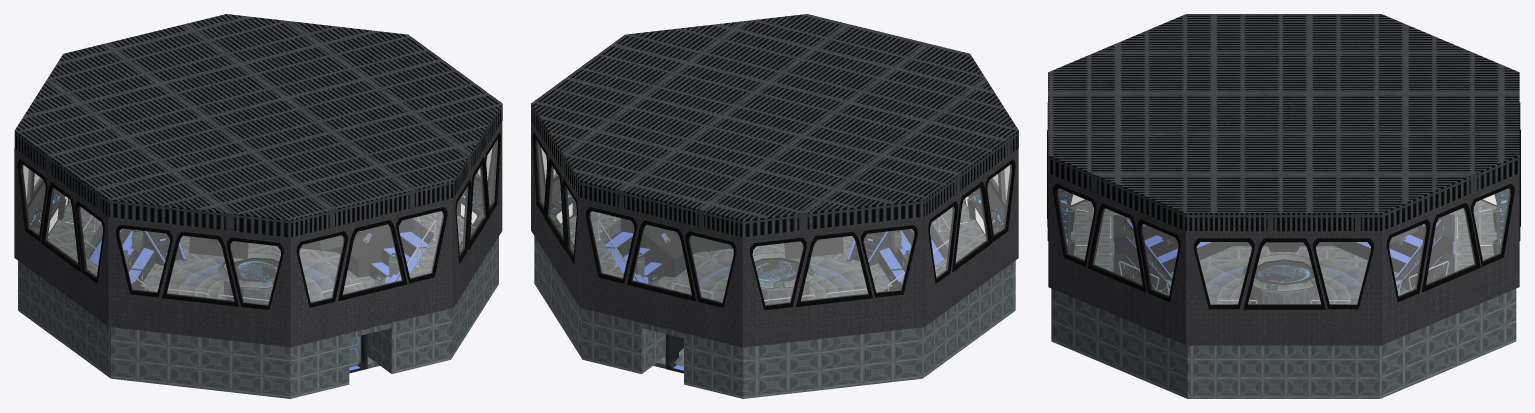
The model's file is Futuristic_Command_Center.glb.
The picture shows the model from 3 angles, left to right: view 1: azimuth 30°, elevation 25°; view 2: azimuth 150°, elevation 25°; view 3: azimuth 270°, elevation 25°; orthographic projection. The views are drawn at different scales.
Parts seen in each view (by area): view 1: Roof, Lower Wall, Wall (4), Wall (5), Wall (3), Wall (6), Center Floor, Center Control, Floor, Module 2, Consoles, Stage (+6 smaller); view 2: Roof, Lower Wall, Wall (2), Wall, Wall (3), Wall (8), Center Floor, Floor, Center Control, Module 2, Consoles, Stage (+7 smaller); view 3: Roof, Lower Wall, Wall (7), Wall (6), Wall (8), Center Control, Center Floor, Stage (2), Stairs, Stairs (2), Floor, Consoles (+1 smaller).
Part boxes in pixels (<box>): Roof: <box>14,14,502,237</box>; Lower Wall: <box>18,201,498,398</box>; Wall (4): <box>109,217,290,347</box>; Wall (5): <box>290,198,453,347</box>; Wall (3): <box>14,148,109,326</box>; Wall (6): <box>453,122,502,307</box>; Center Floor: <box>167,253,358,301</box>; Center Control: <box>217,252,280,304</box>; Floor: <box>141,235,379,368</box>; Module 2: <box>348,218,412,277</box>; Consoles: <box>28,188,491,251</box>; Stage: <box>301,231,428,283</box>; Roof: <box>531,14,1018,237</box>; Lower Wall: <box>534,202,1015,398</box>; Wall (2): <box>743,216,924,347</box>; Wall: <box>580,198,743,347</box>; Wall (3): <box>924,148,1018,326</box>; Wall (8): <box>531,122,579,307</box>; Center Floor: <box>675,253,867,301</box>; Floor: <box>653,236,892,368</box>; Center Control: <box>753,252,816,304</box>; Module 2: <box>620,218,686,277</box>; Consoles: <box>542,188,1004,252</box>; Stage: <box>604,231,732,283</box>; Roof: <box>1048,14,1519,231</box>; Lower Wall: <box>1051,200,1516,398</box>; Wall (7): <box>1186,231,1381,345</box>; Wall (6): <box>1048,173,1186,345</box>; Wall (8): <box>1381,173,1519,345</box>; Center Control: <box>1242,253,1324,303</box>; Center Floor: <box>1202,255,1364,303</box>; Stage (2): <box>1130,222,1437,272</box>; Stairs: <box>1113,215,1172,289</box>; Stairs (2): <box>1395,215,1454,289</box>; Floor: <box>1157,246,1410,292</box>; Consoles: <box>1058,189,1508,254</box>.
Bounding box in the file's own units: 16.67 × 7.65 × 16.66.
Materials: 178 (40 with a texture image).
